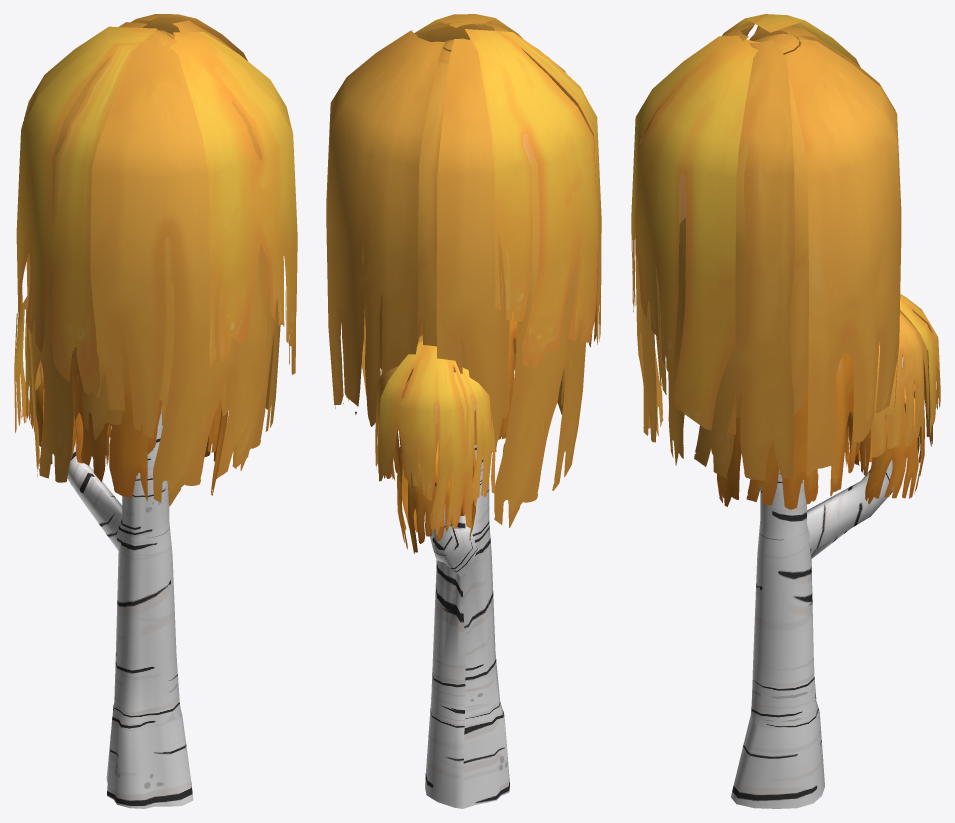
The model's file is Tree.FBX.
3 views of the same model, side by side, from view 1: azimuth 30°, elevation 25°; view 2: azimuth 150°, elevation 25°; view 3: azimuth 270°, elevation 25° (orthographic).
Visible parts, largest first — view 1: Cylinder007; view 2: Cylinder007; view 3: Cylinder007.
Part boxes in pixels (x1,y1,x2,y2): Cylinder007: (14,14,297,808); Cylinder007: (326,14,601,808); Cylinder007: (631,14,940,808).
Size of the model in its own units: 22.88 by 68.76 by 25.14.
